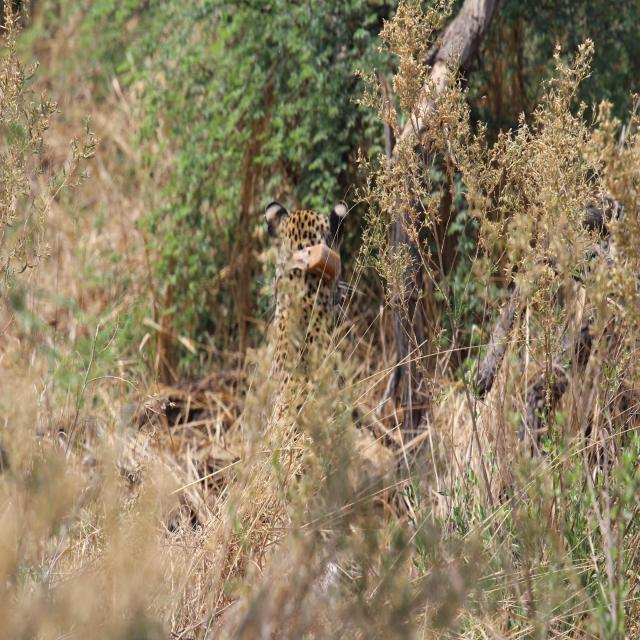Leopard: (250, 188, 374, 598)
